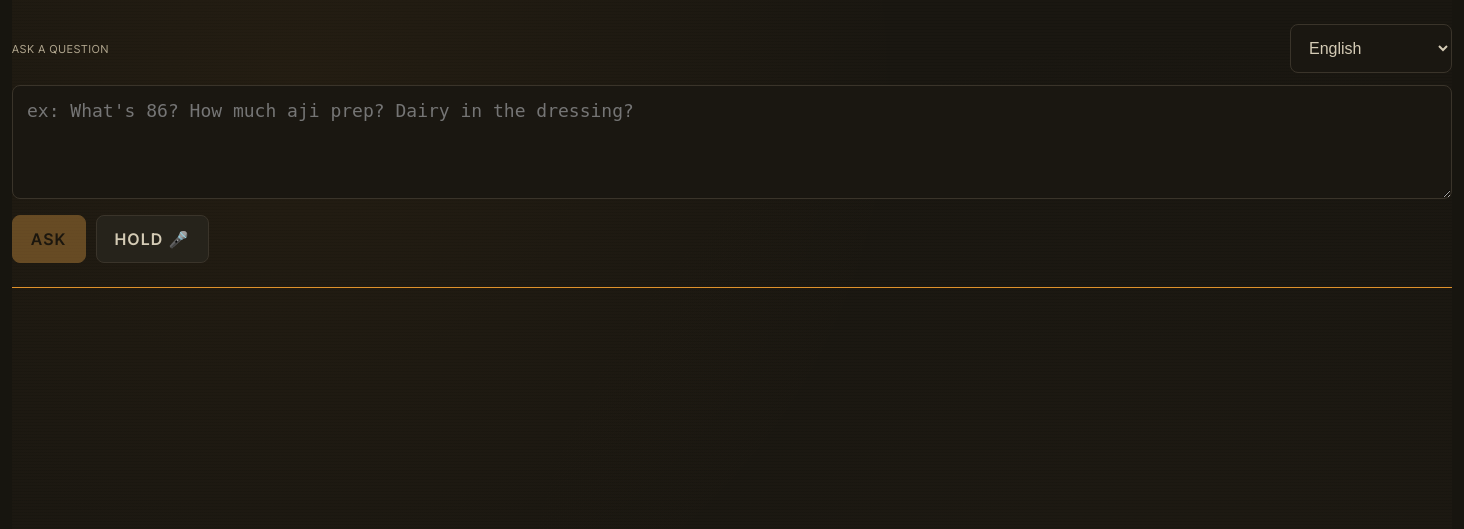
stops voice input before submitting a question
The image size is (1464, 529).
Press the mouse on the button with aria-label "start voice input": (152, 239) [96, 215, 209, 263]
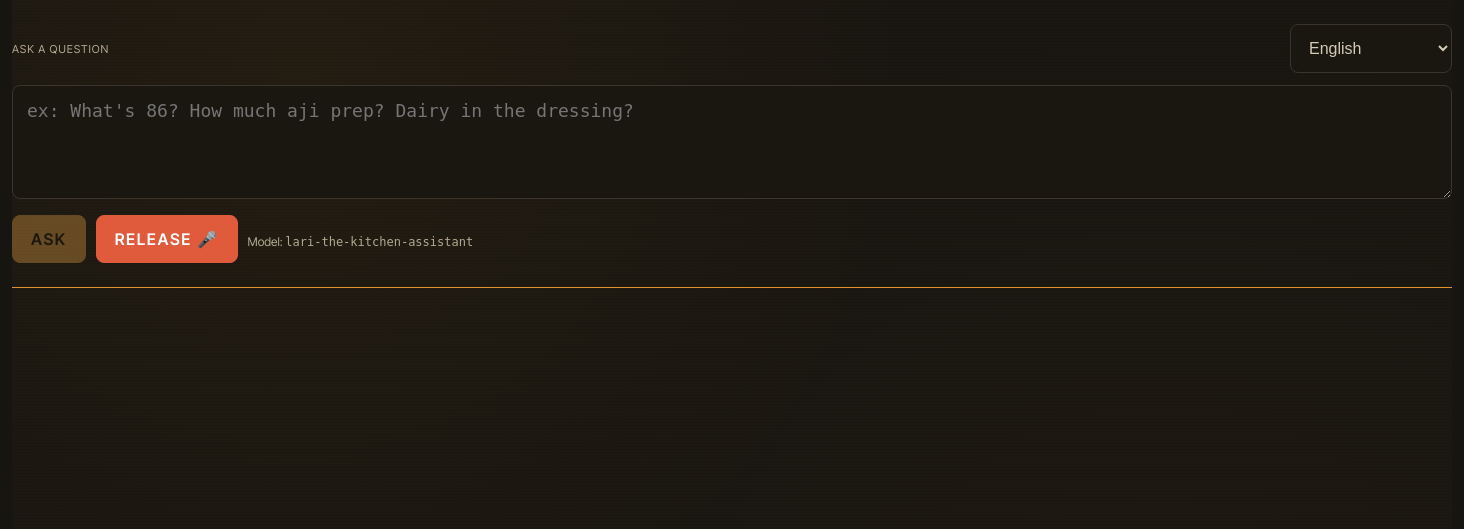
Expected: the button with aria-label "stop voice input" is shown, [96, 215, 238, 263]
In the text box labelled "Ask a question": (732, 142) [12, 85, 1452, 199], type "what is 86?"
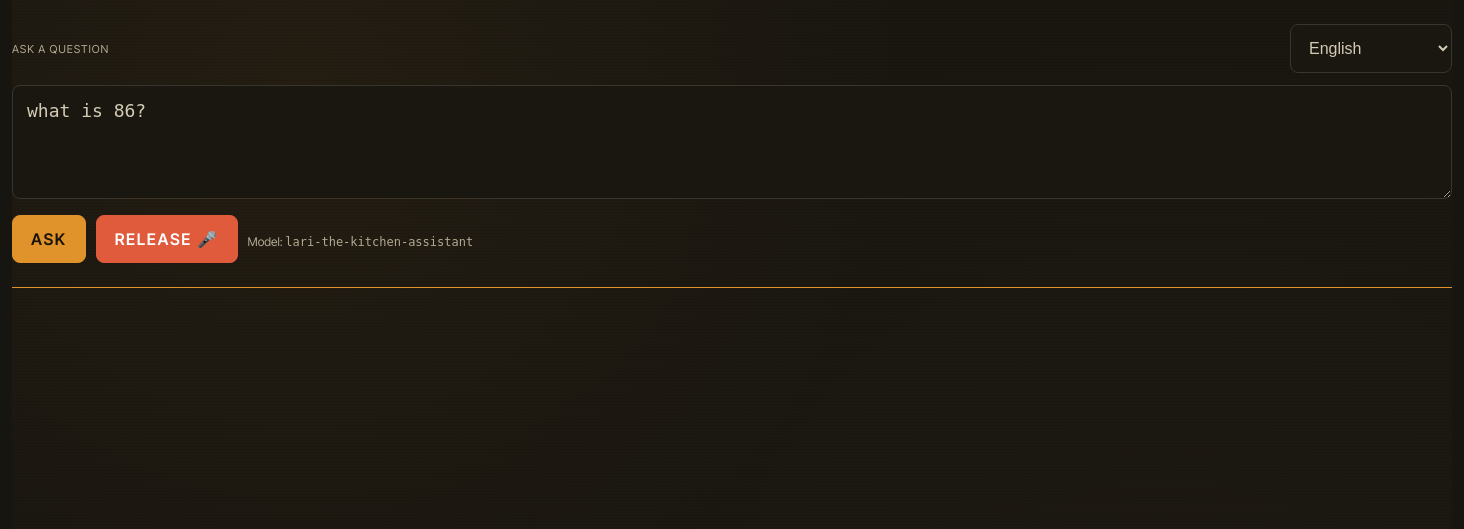
Click the button with aria-label "Ask kitchen assistant": click(49, 239) [12, 215, 86, 263]
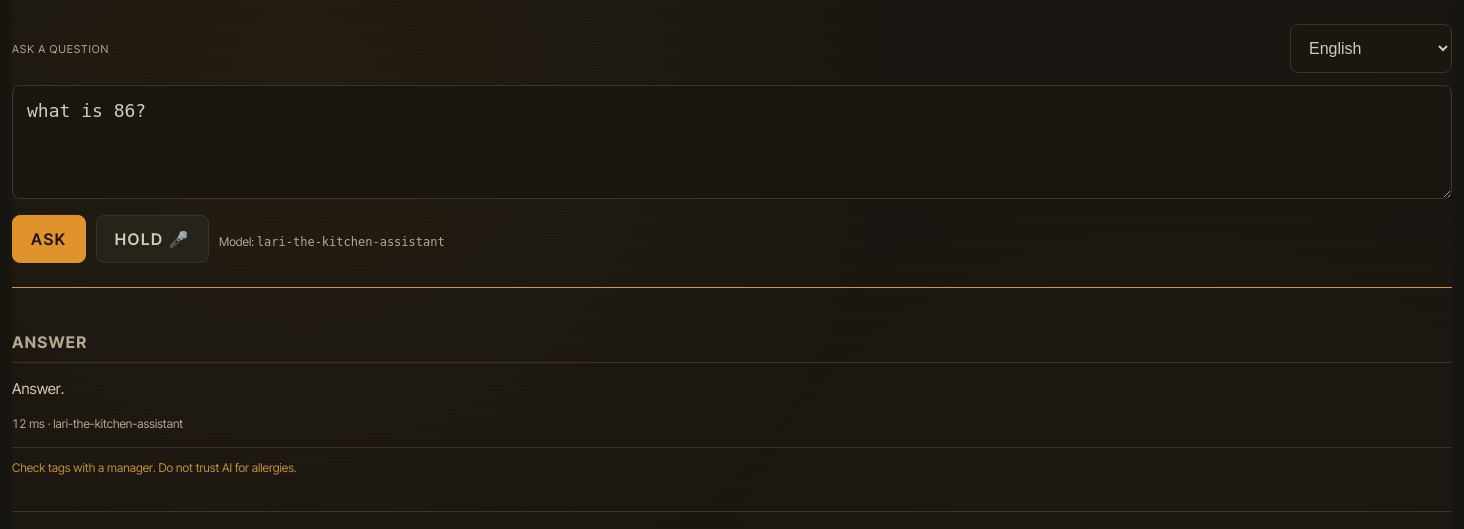
Expected: the button with aria-label "start voice input" is shown, [96, 215, 209, 263]
